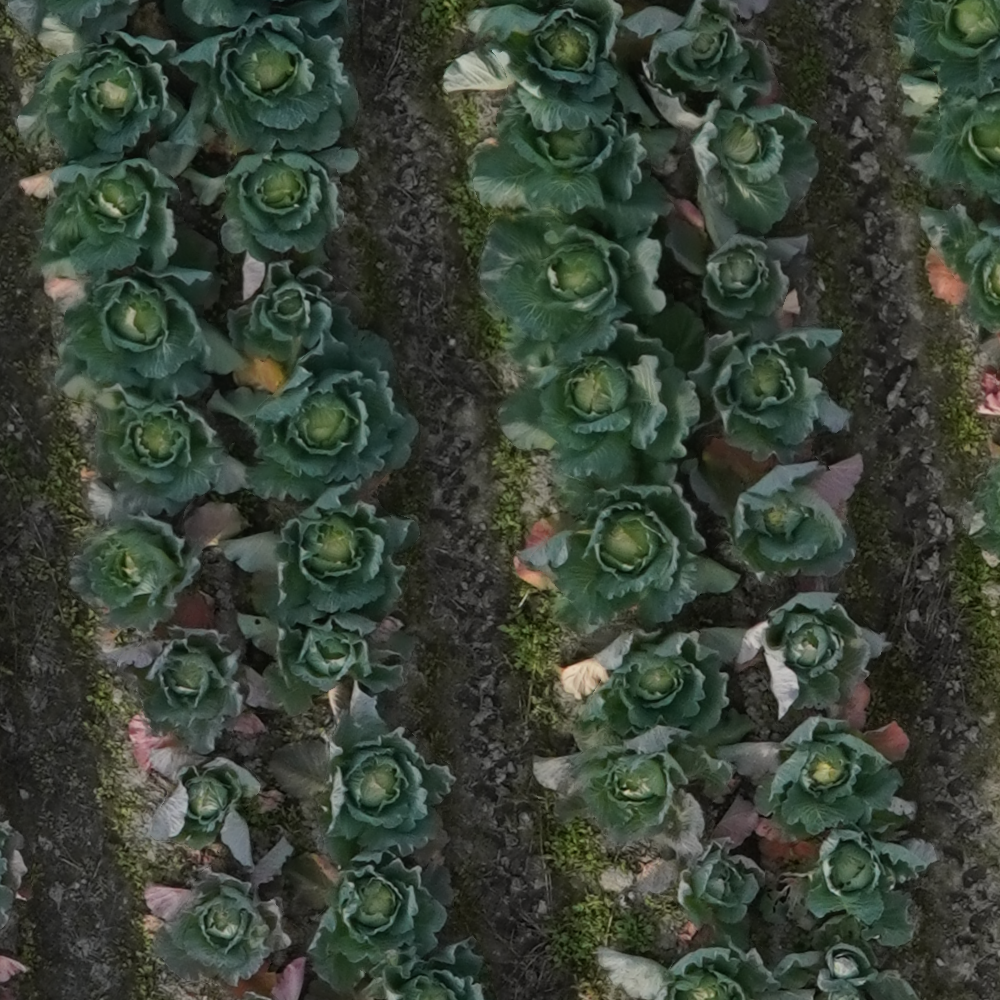Cabbage: (495, 294, 707, 513), (513, 462, 744, 638), (211, 328, 418, 501), (269, 679, 456, 865), (19, 141, 219, 314), (715, 682, 917, 843), (219, 477, 420, 637), (531, 707, 756, 847), (468, 91, 679, 238), (479, 207, 666, 372), (689, 289, 855, 464), (55, 263, 246, 408), (166, 14, 358, 158), (181, 147, 359, 302), (67, 502, 249, 648), (681, 438, 864, 582), (94, 623, 279, 756), (443, 0, 625, 132), (560, 625, 747, 752), (655, 103, 819, 246), (16, 31, 187, 166), (143, 837, 293, 986), (129, 708, 266, 870), (758, 824, 937, 946), (82, 389, 247, 521), (305, 848, 455, 992), (613, 0, 780, 128), (735, 591, 894, 722), (666, 200, 809, 334), (237, 613, 417, 716), (899, 73, 1000, 236), (227, 259, 367, 373), (676, 795, 764, 960), (772, 913, 919, 1000), (303, 936, 485, 1000), (599, 947, 816, 1000), (891, 0, 1000, 98), (921, 203, 1000, 335), (1, 0, 141, 54), (166, 1, 358, 39), (971, 439, 1000, 567), (0, 819, 32, 931), (965, 336, 1000, 417), (0, 954, 32, 982)
